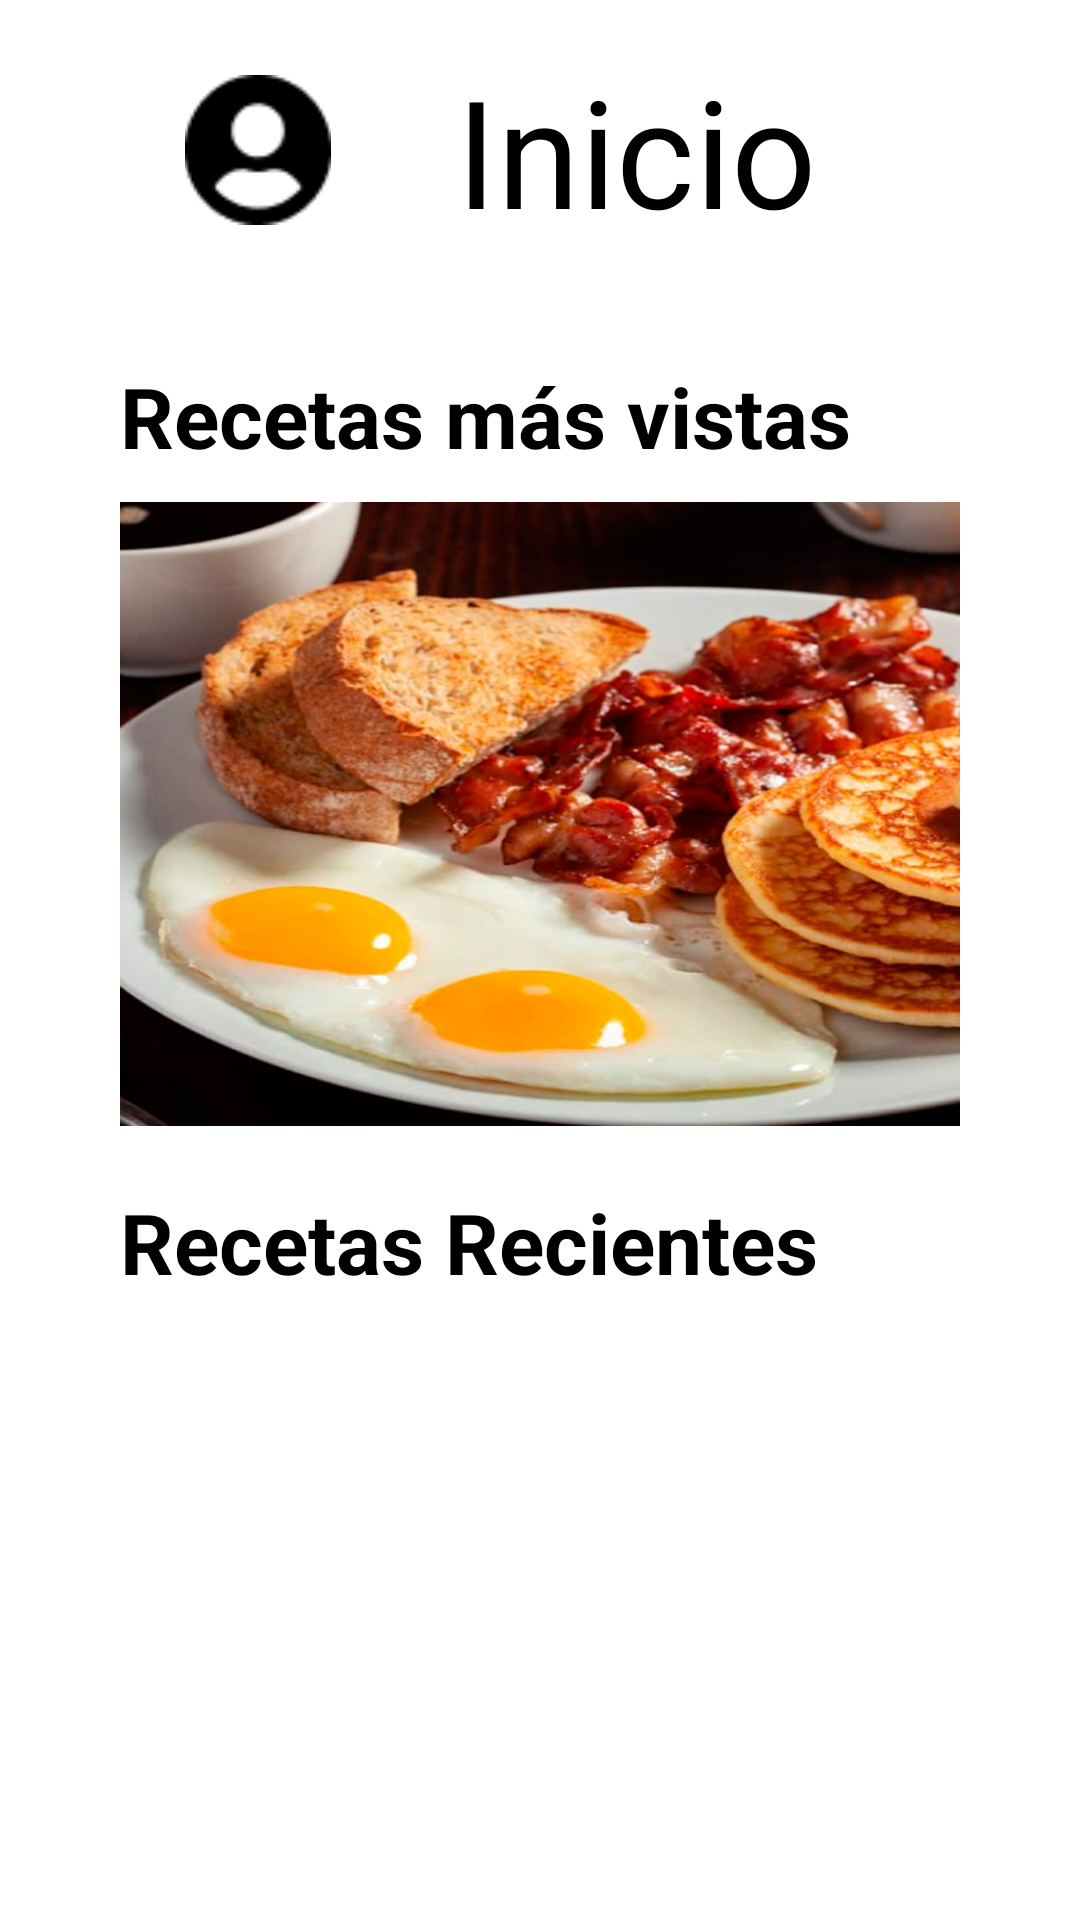

Where to tap for icons on this 1080 x 1920 app screen, as (x,y):
person: (258,150)
